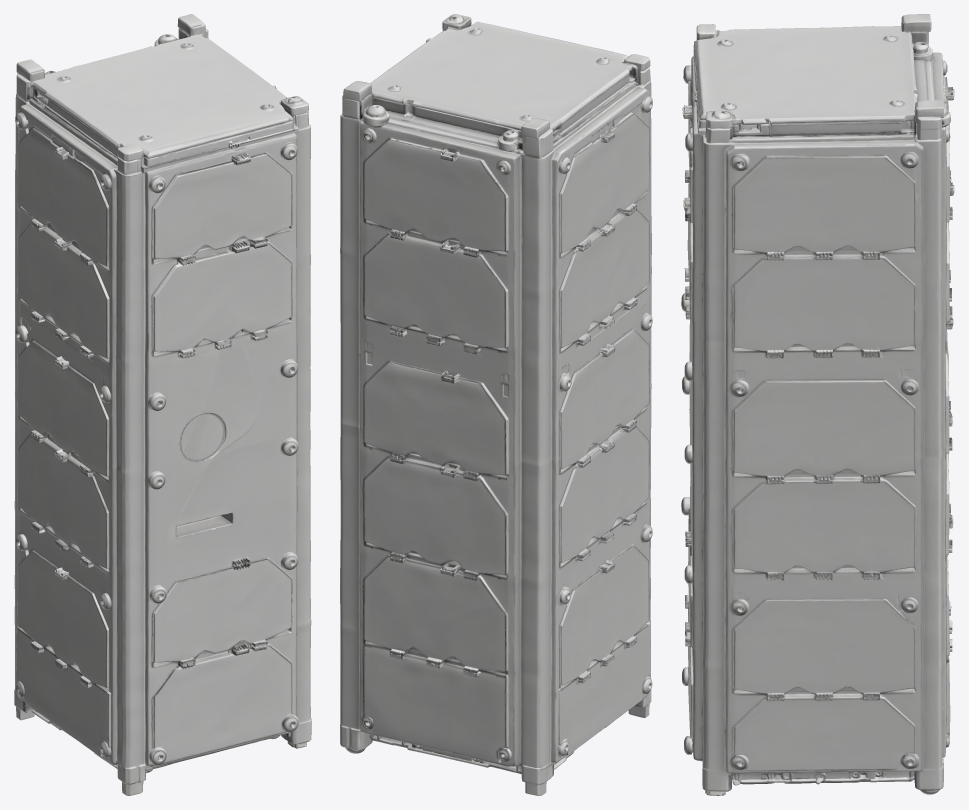
The model's file is knacksat-2.glb.
The picture shows the model from 3 angles, left to right: view 1: azimuth 30°, elevation 25°; view 2: azimuth 150°, elevation 25°; view 3: azimuth 270°, elevation 25°; orthographic projection. The views are drawn at different scales.
Parts seen in each view (by area): view 1: tripo_node_773d5677-5a0d-4ec2-b8ea-4cf3da1efe0e; view 2: tripo_node_773d5677-5a0d-4ec2-b8ea-4cf3da1efe0e; view 3: tripo_node_773d5677-5a0d-4ec2-b8ea-4cf3da1efe0e.
Boxes of the visible parts, <box> form: tripo_node_773d5677-5a0d-4ec2-b8ea-4cf3da1efe0e: <box>14,14,311,795</box>; tripo_node_773d5677-5a0d-4ec2-b8ea-4cf3da1efe0e: <box>340,14,652,795</box>; tripo_node_773d5677-5a0d-4ec2-b8ea-4cf3da1efe0e: <box>681,14,954,795</box>.
Size of the model in its own units: 0.3382 by 0.9808 by 0.3521.
Materials: 1 (1 with a texture image).
